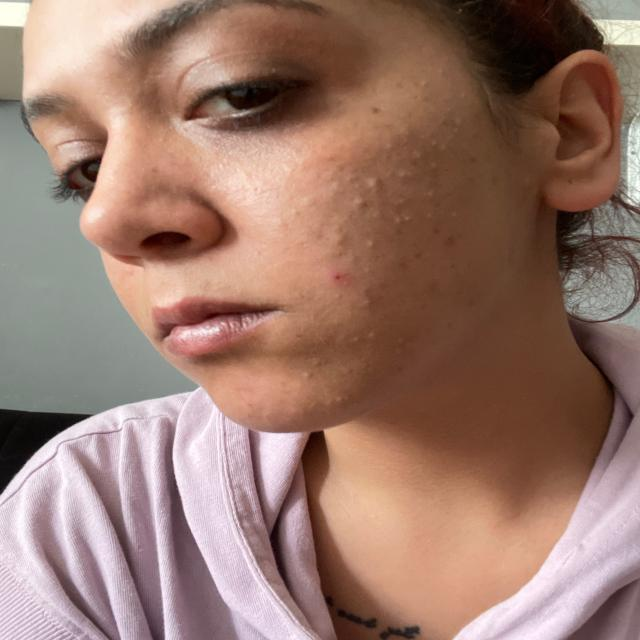Eyebags: (181, 83, 339, 141), (345, 329, 381, 345), (318, 392, 352, 408), (330, 228, 351, 252), (383, 170, 414, 183), (352, 193, 370, 214), (364, 176, 386, 193), (447, 116, 467, 134), (361, 283, 374, 310), (327, 177, 346, 194), (392, 214, 415, 228), (383, 197, 414, 207), (300, 194, 318, 210), (442, 234, 459, 250), (420, 186, 440, 198), (408, 250, 429, 261), (330, 270, 345, 284), (396, 333, 411, 347), (297, 368, 314, 380), (311, 357, 329, 367), (410, 149, 423, 162), (364, 236, 377, 249), (434, 66, 448, 78), (395, 260, 409, 272), (425, 160, 441, 170), (364, 263, 376, 276), (466, 296, 479, 308), (390, 365, 404, 376), (427, 138, 439, 150), (418, 79, 431, 88), (383, 140, 396, 149), (431, 228, 445, 235), (427, 211, 436, 221), (444, 321, 455, 329), (451, 211, 462, 218)
